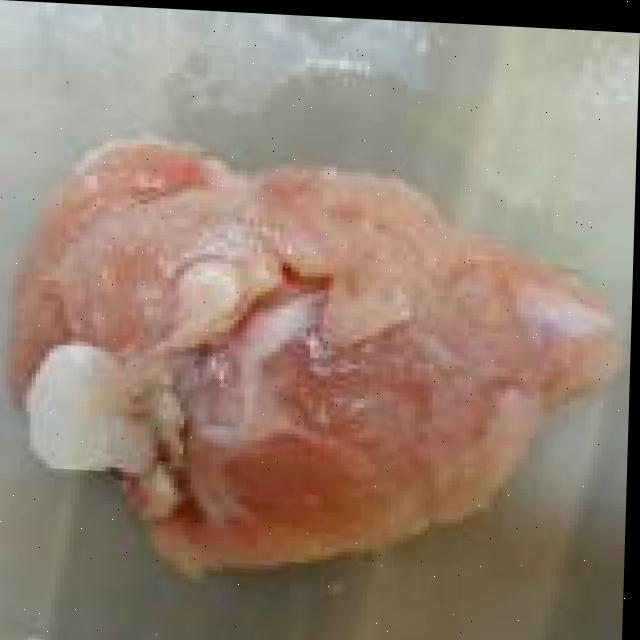breast: (11, 130, 627, 576)
